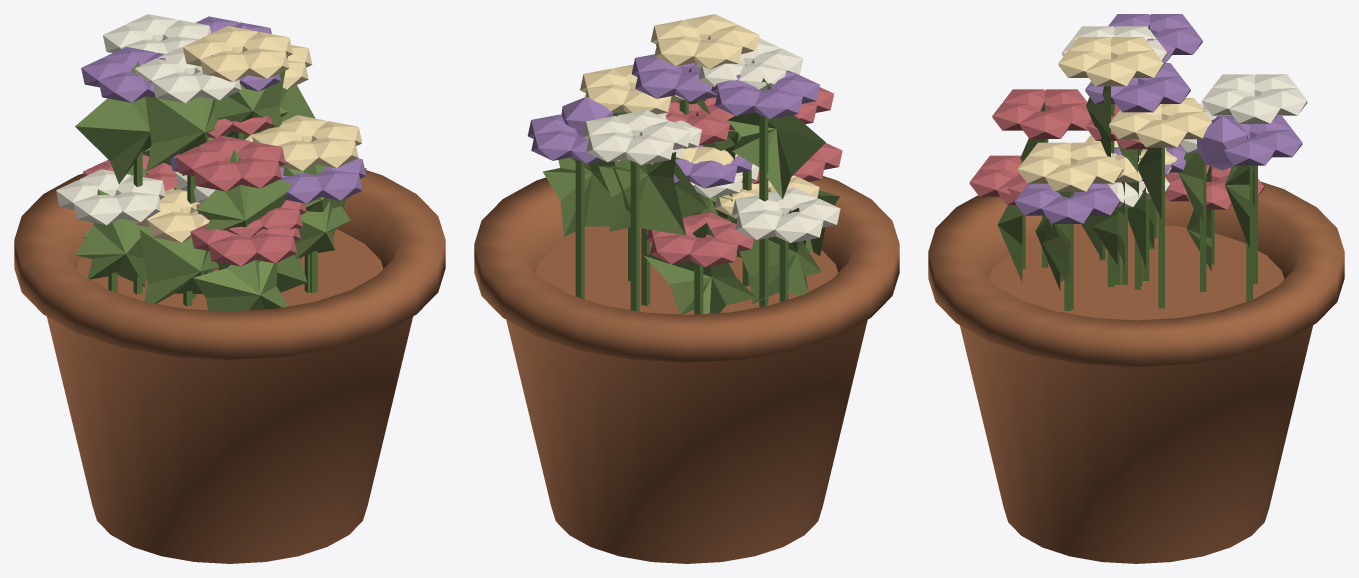
Rendered from flower_with_pot.glb.
3 views of the same model, side by side, from view 1: azimuth 30°, elevation 25°; view 2: azimuth 150°, elevation 25°; view 3: azimuth 270°, elevation 25° (orthographic). The views are drawn at different scales.
Visible parts, largest first — view 1: 10 Plants and Pots | Clay flowerpot | 001, 10 Plants and Pots | Flower leaf | 005, 10 Plants and Pots | Flower leaf | 002, 10 Plants and Pots | Flower leaf | 008, 10 Plants and Pots | Flower leaf | 007, 10 Plants and Pots | Flower leaf | 014, 10 Plants and Pots | Flower leaf | 015, 10 Plants and Pots | Flower leaf | 012, 10 Plants and Pots | Flower leaf | 017, 10 Plants and Pots | Flower Mesh | 007, 10 Plants and Pots | Flower Mesh | 032, 10 Plants and Pots | Flower Mesh | 072 (+38 smaller); view 2: 10 Plants and Pots | Clay flowerpot | 001, 10 Plants and Pots | Flower leaf | 006, 10 Plants and Pots | Flower leaf | 005, 10 Plants and Pots | Flower leaf | 019, 10 Plants and Pots | Flower leaf | 001, 10 Plants and Pots | Flower leaf | 014, 10 Plants and Pots | Flower stem | 005, 10 Plants and Pots | Flower stem | 006, 10 Plants and Pots | Flower stem | 001, 10 Plants and Pots | Flower Mesh | 028, 10 Plants and Pots | Flower Mesh | 023, 10 Plants and Pots | Flower Mesh | 093 (+38 smaller); view 3: 10 Plants and Pots | Clay flowerpot | 001, 10 Plants and Pots | Flower Mesh | 001, 10 Plants and Pots | Flower leaf | 001, 10 Plants and Pots | Flower leaf | 007, 10 Plants and Pots | Flower leaf | 010, 10 Plants and Pots | Flower Mesh | 065, 10 Plants and Pots | Flower Mesh | 100, 10 Plants and Pots | Flower Mesh | 060, 10 Plants and Pots | Flower Mesh | 080, 10 Plants and Pots | Flower Mesh | 075, 10 Plants and Pots | Flower Mesh | 030, 10 Plants and Pots | Flower Mesh | 085 (+39 smaller).
Boxes of the visible parts, box(x1,y1,x2,y2) form: 10 Plants and Pots | Clay flowerpot | 001: box(14, 170, 445, 563); 10 Plants and Pots | Flower leaf | 005: box(75, 61, 151, 184); 10 Plants and Pots | Flower leaf | 002: box(145, 96, 218, 171); 10 Plants and Pots | Flower leaf | 008: box(139, 227, 219, 303); 10 Plants and Pots | Flower leaf | 007: box(193, 260, 288, 311); 10 Plants and Pots | Flower leaf | 014: box(75, 189, 148, 287); 10 Plants and Pots | Flower leaf | 015: box(196, 149, 292, 230); 10 Plants and Pots | Flower leaf | 012: box(211, 55, 287, 136); 10 Plants and Pots | Flower leaf | 017: box(294, 200, 350, 258); 10 Plants and Pots | Flower Mesh | 007: box(152, 72, 200, 103); 10 Plants and Pots | Flower Mesh | 032: box(208, 236, 256, 266); 10 Plants and Pots | Flower Mesh | 072: box(193, 161, 241, 191); 10 Plants and Pots | Clay flowerpot | 001: box(474, 176, 899, 563); 10 Plants and Pots | Flower leaf | 006: box(598, 152, 685, 235); 10 Plants and Pots | Flower leaf | 005: box(727, 78, 825, 199); 10 Plants and Pots | Flower leaf | 019: box(644, 223, 756, 314); 10 Plants and Pots | Flower leaf | 001: box(543, 157, 630, 236); 10 Plants and Pots | Flower leaf | 014: box(729, 207, 821, 304); 10 Plants and Pots | Flower stem | 005: box(759, 114, 768, 306); 10 Plants and Pots | Flower stem | 006: box(630, 136, 639, 311); 10 Plants and Pots | Flower stem | 001: box(575, 134, 584, 299); 10 Plants and Pots | Flower Mesh | 028: box(626, 135, 674, 165); 10 Plants and Pots | Flower Mesh | 023: box(754, 89, 802, 118); 10 Plants and Pots | Flower Mesh | 093: box(689, 237, 737, 267); 10 Plants and Pots | Clay flowerpot | 001: box(928, 173, 1344, 563); 10 Plants and Pots | Flower Mesh | 001: box(1197, 116, 1247, 170); 10 Plants and Pots | Flower leaf | 001: box(1225, 165, 1249, 248); 10 Plants and Pots | Flower leaf | 007: box(997, 205, 1022, 282); 10 Plants and Pots | Flower leaf | 010: box(1178, 108, 1203, 222); 10 Plants and Pots | Flower Mesh | 065: box(1112, 84, 1163, 112); 10 Plants and Pots | Flower Mesh | 100: box(1136, 120, 1186, 147); 10 Plants and Pots | Flower Mesh | 060: box(1085, 59, 1136, 86); 10 Plants and Pots | Flower Mesh | 080: box(1045, 164, 1095, 191); 10 Plants and Pots | Flower Mesh | 075: box(1019, 111, 1070, 138); 10 Plants and Pots | Flower Mesh | 030: box(1229, 96, 1279, 123); 10 Plants and Pots | Flower Mesh | 085: box(1042, 196, 1092, 223).
Size of the model in its own units: 0.5828 by 0.7048 by 0.5828.
